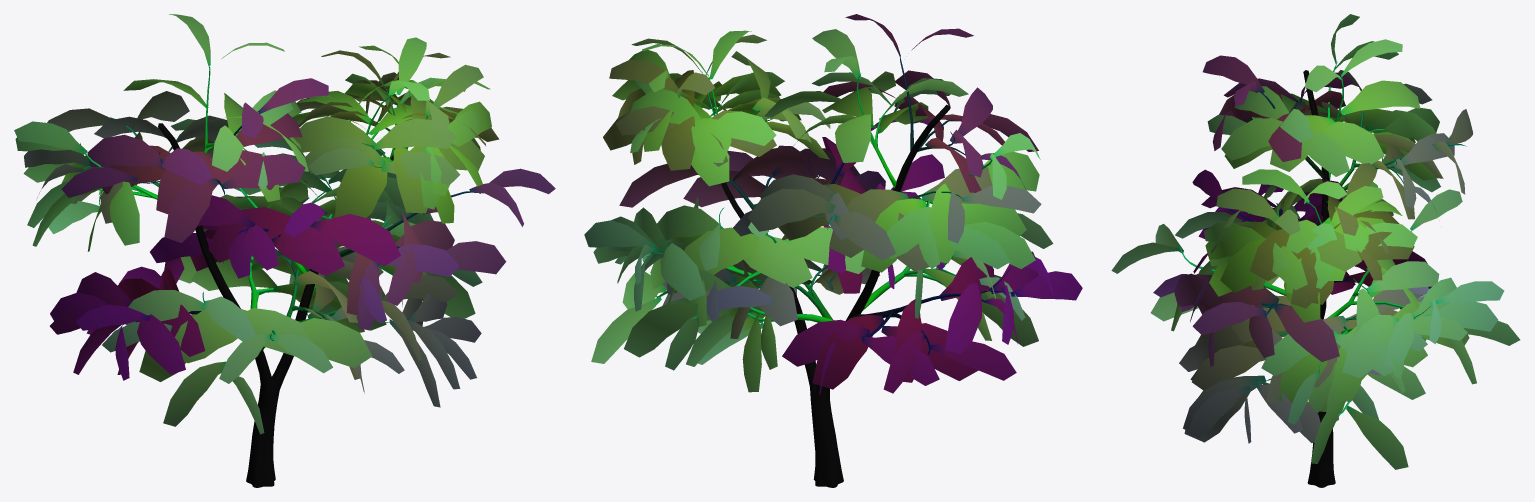
Rendered from Tree01.fbx.
3 views of the same model, side by side, from view 1: azimuth 30°, elevation 25°; view 2: azimuth 150°, elevation 25°; view 3: azimuth 270°, elevation 25° (orthographic). The views are drawn at different scales.
Parts seen in each view (by area): view 1: sprite_0043_1, _0; view 2: sprite_0043_1, _0; view 3: sprite_0043_1, _0.
Boxes of the visible parts, box(x1,y1,x2,y2) form: sprite_0043_1: box(14, 14, 555, 434); _0: box(82, 65, 470, 487); sprite_0043_1: box(584, 14, 1082, 395); _0: box(642, 54, 1018, 487); sprite_0043_1: box(1111, 14, 1520, 469); _0: box(1179, 61, 1466, 487).
Bounding box in the file's own units: 592 × 546 × 483.
